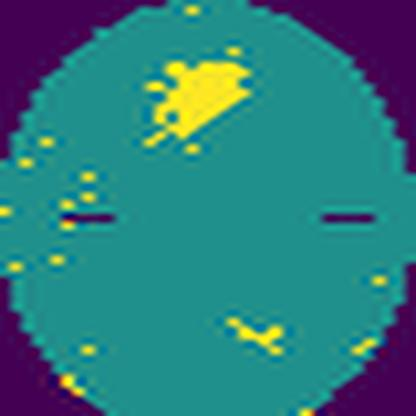Edge-Loc: (147, 54, 256, 140)
